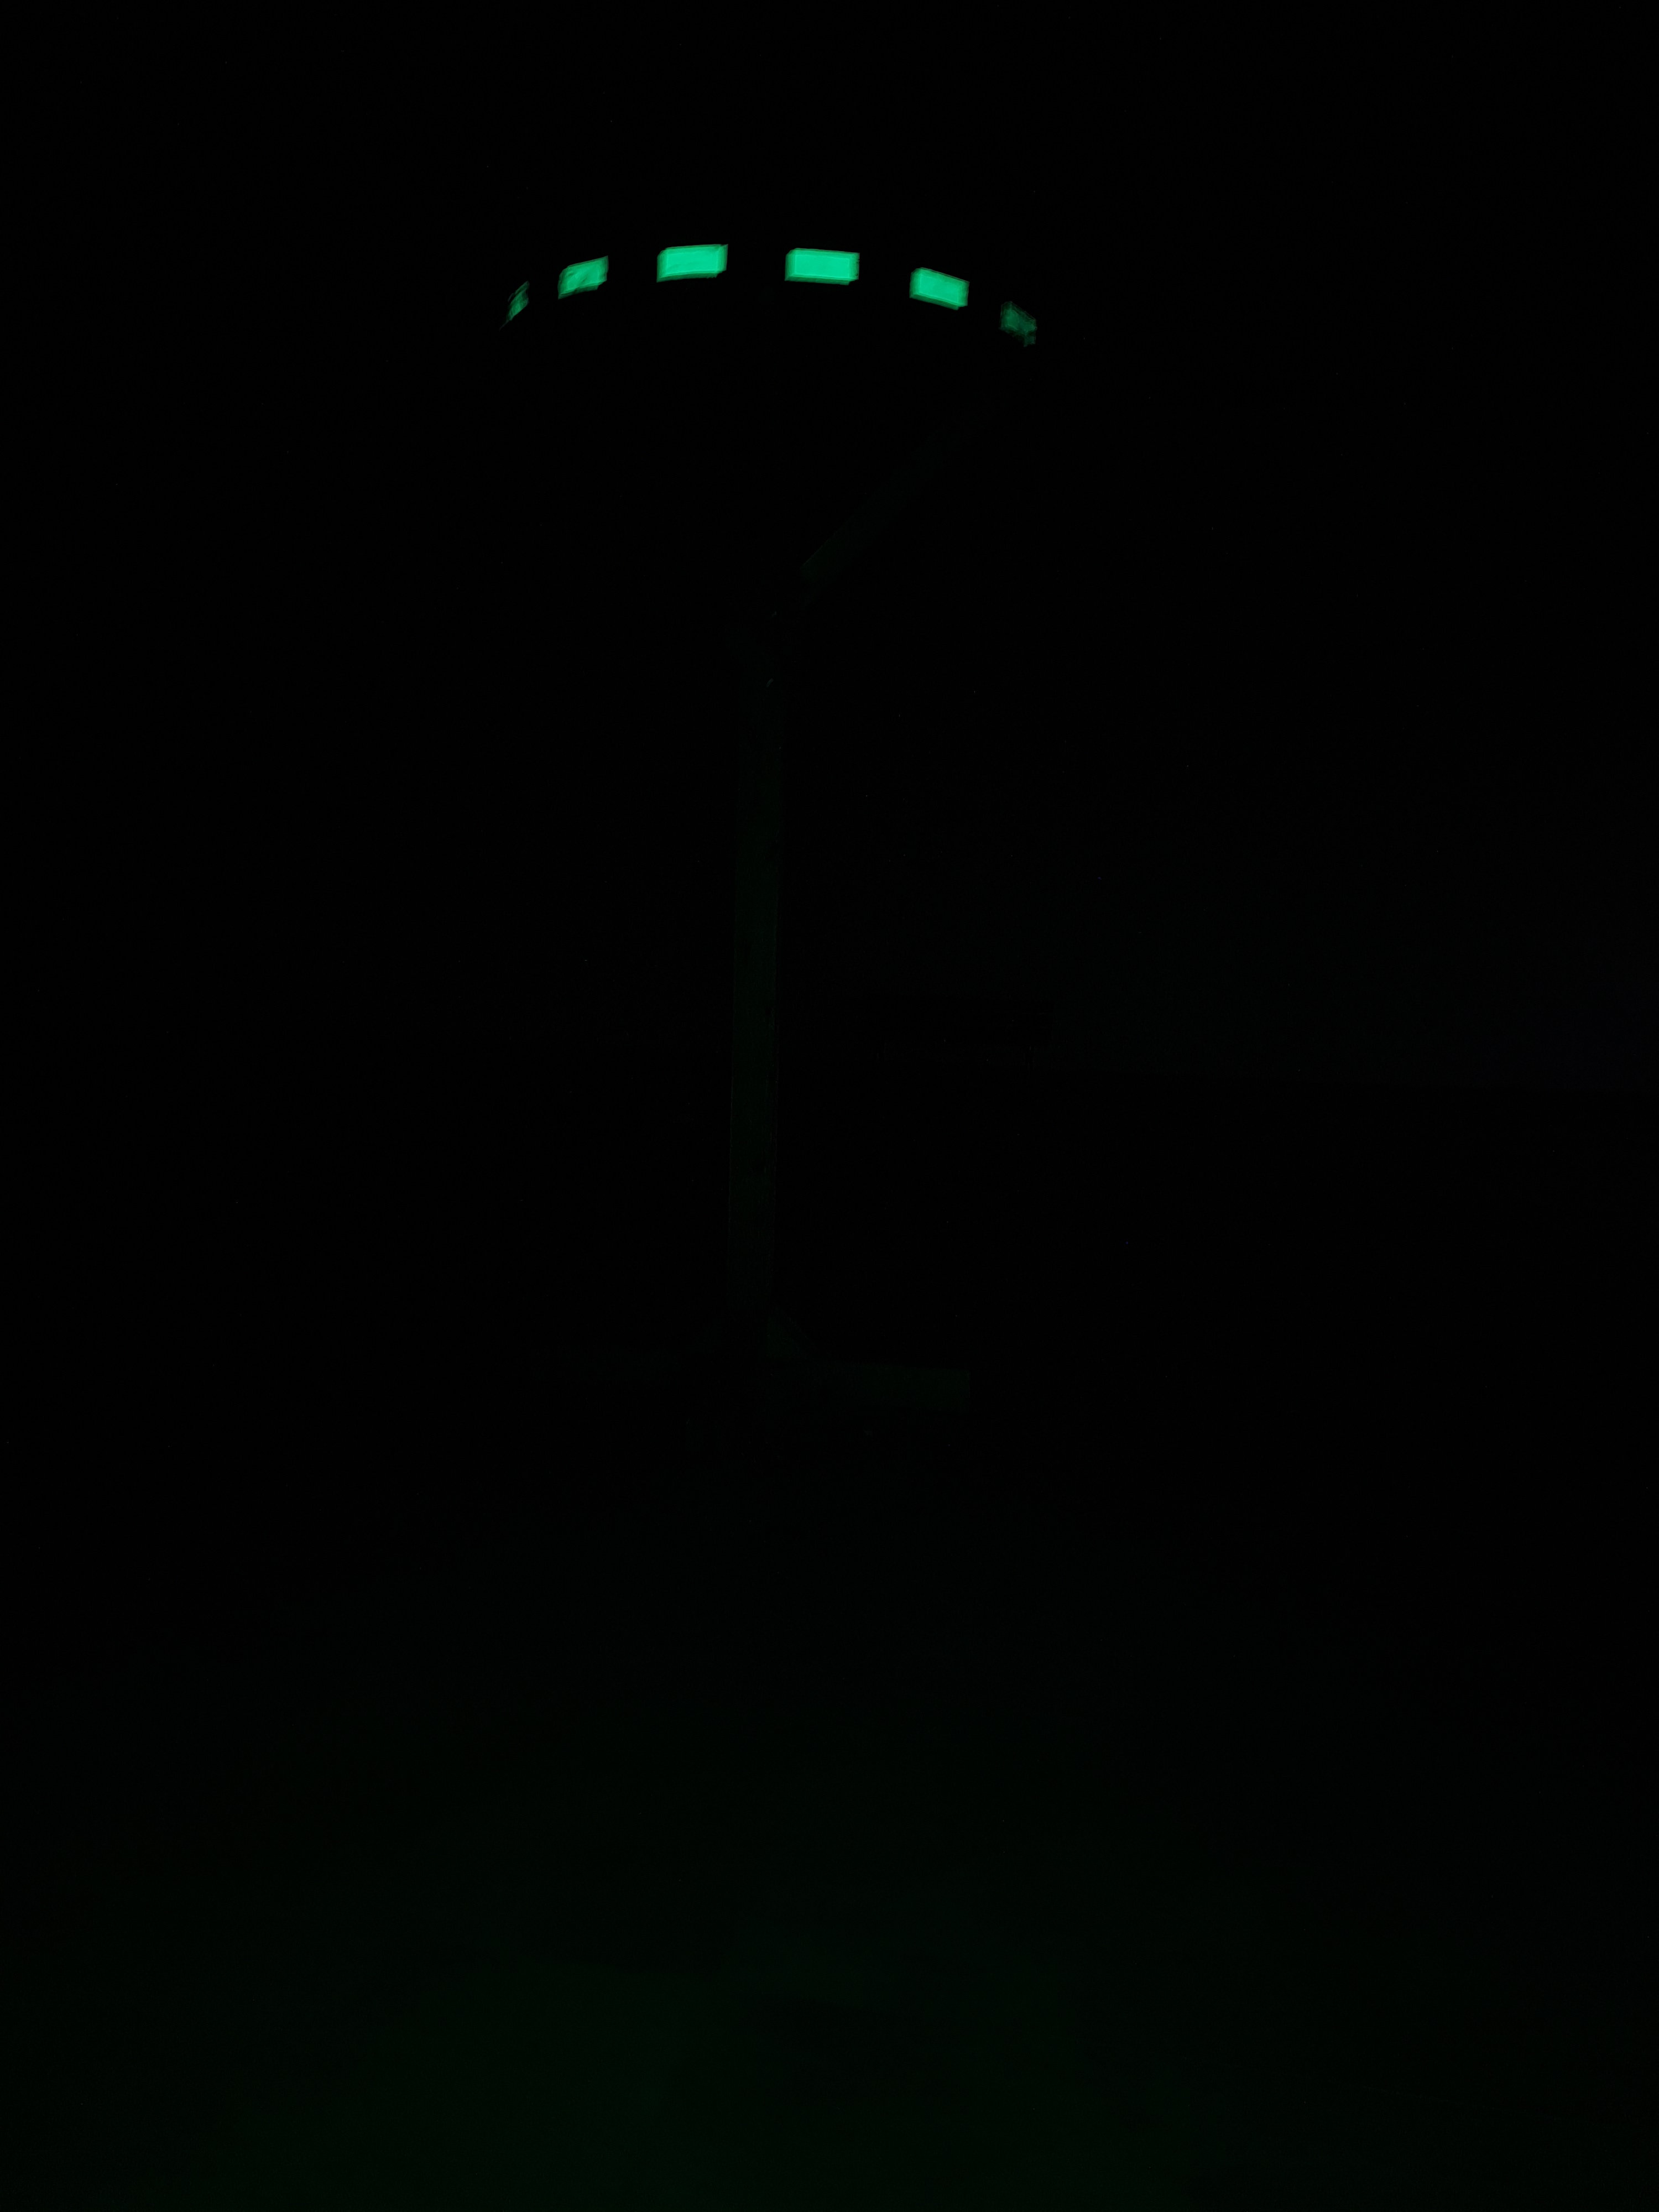hoop: (490, 233, 1056, 361)
